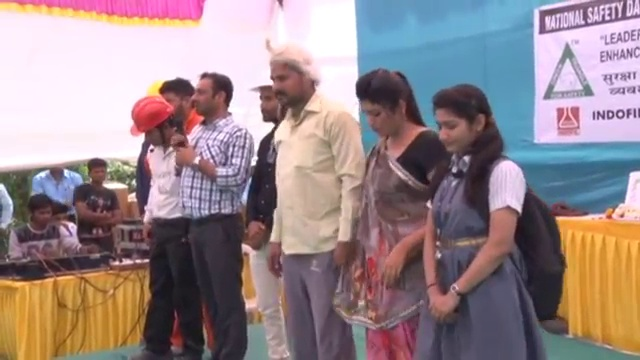helmet: (128, 94, 173, 139), (244, 66, 277, 92)
helmet_off: (425, 83, 499, 165), (357, 71, 419, 142), (270, 44, 319, 113), (188, 72, 234, 121), (245, 67, 282, 126), (161, 78, 201, 128), (29, 194, 54, 229), (87, 160, 110, 189), (49, 166, 67, 183)
helmet_on: (128, 92, 186, 154)
person: (424, 71, 566, 360), (271, 47, 368, 360), (356, 72, 454, 360), (173, 72, 254, 358), (126, 95, 206, 357), (243, 53, 297, 360), (7, 195, 83, 259), (74, 157, 121, 242), (30, 163, 84, 204)
